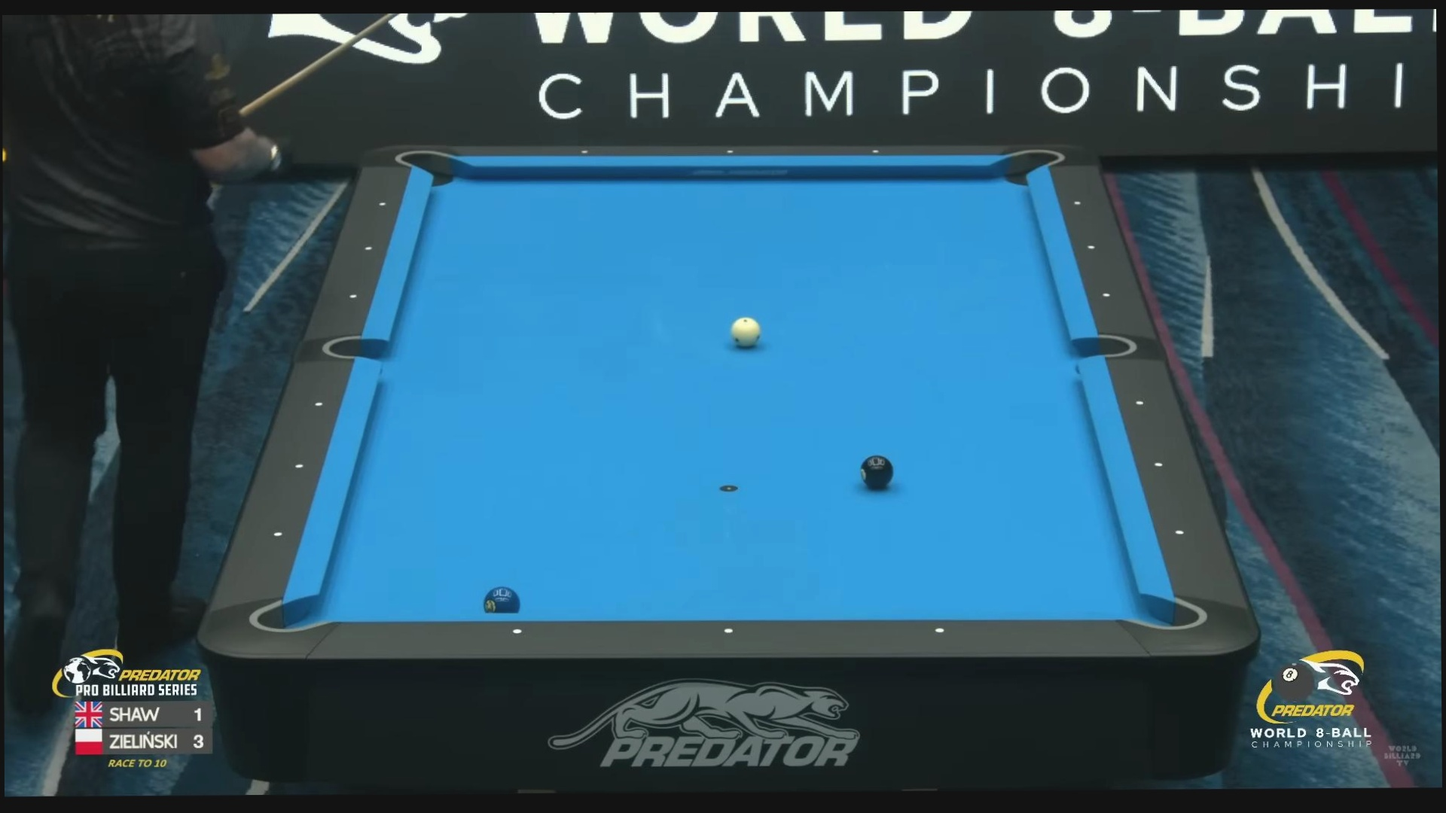Black: (271, 529, 282, 540), (870, 146, 881, 157), (1086, 242, 1097, 253), (1101, 289, 1112, 300), (1153, 460, 1164, 471), (933, 625, 944, 636), (294, 461, 304, 472), (314, 399, 325, 409), (349, 291, 359, 302), (363, 243, 374, 253), (377, 199, 388, 209), (725, 146, 736, 156), (1072, 198, 1083, 208), (1134, 398, 1145, 408), (1175, 527, 1185, 538), (511, 626, 522, 636), (580, 147, 590, 157), (722, 625, 732, 635)
Cue: (485, 587, 521, 615)
Solid: (860, 454, 895, 488)
Stripe: (731, 317, 762, 349)
